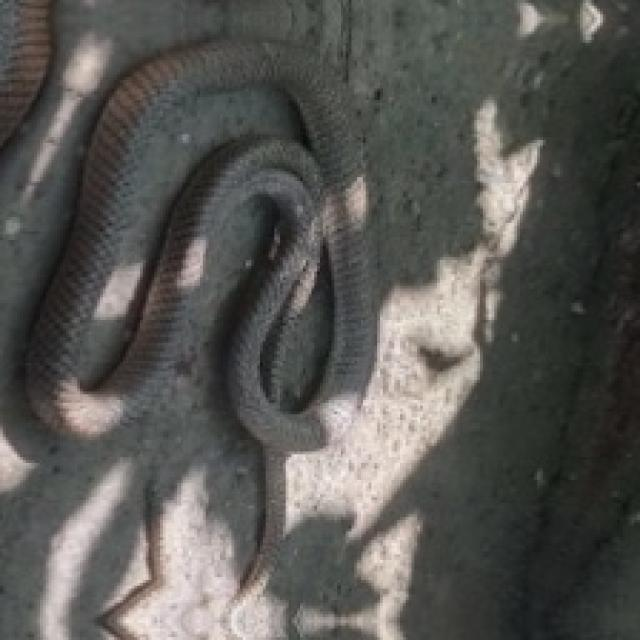paradise tree snake: (0, 0, 374, 637)
